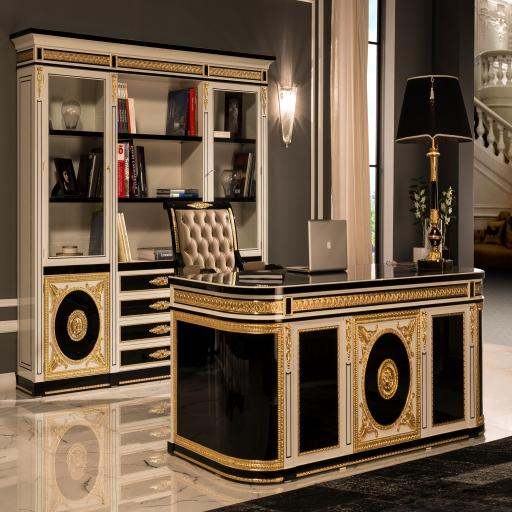Stairs: (474, 53, 512, 193)
chair: (165, 201, 252, 286)
desk: (170, 258, 486, 489)
sofa: (474, 210, 512, 270)
wall: (1, 0, 317, 290)
